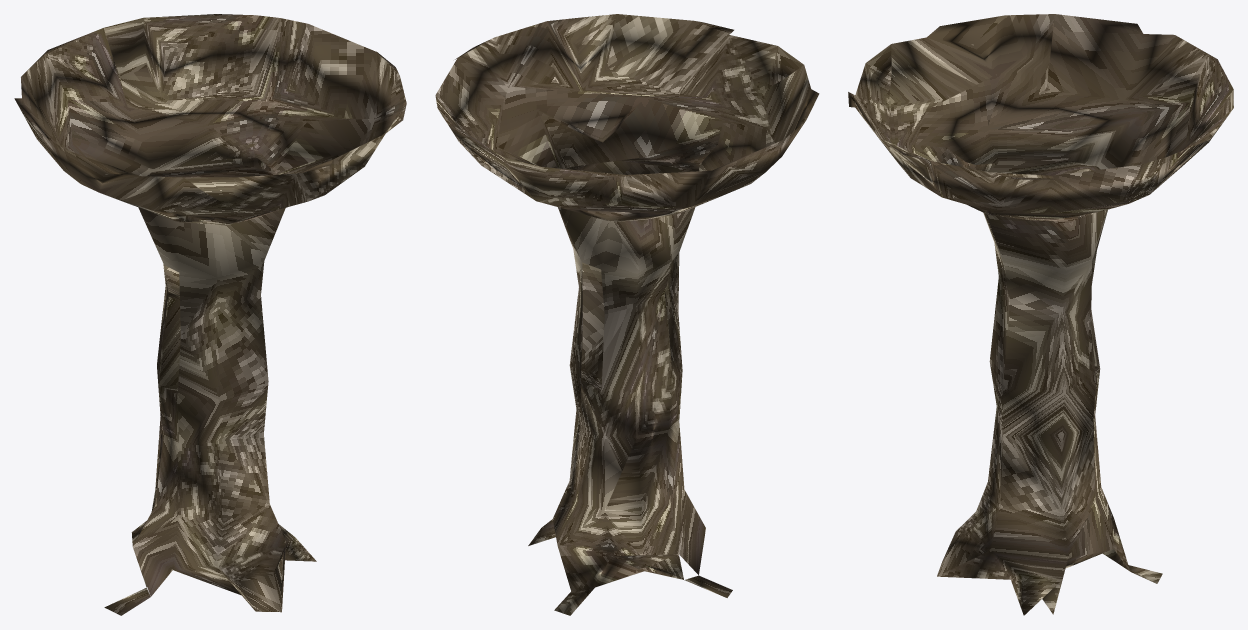
Rendered from brasero_lod.glb.
3 renders of one model, left to right at view 1: azimuth 30°, elevation 25°; view 2: azimuth 150°, elevation 25°; view 3: azimuth 270°, elevation 25°, orthographic. The views are drawn at different scales.
Size of the model in its own units: 1.37 by 1.89 by 1.37.
1 material, 1 textured.
